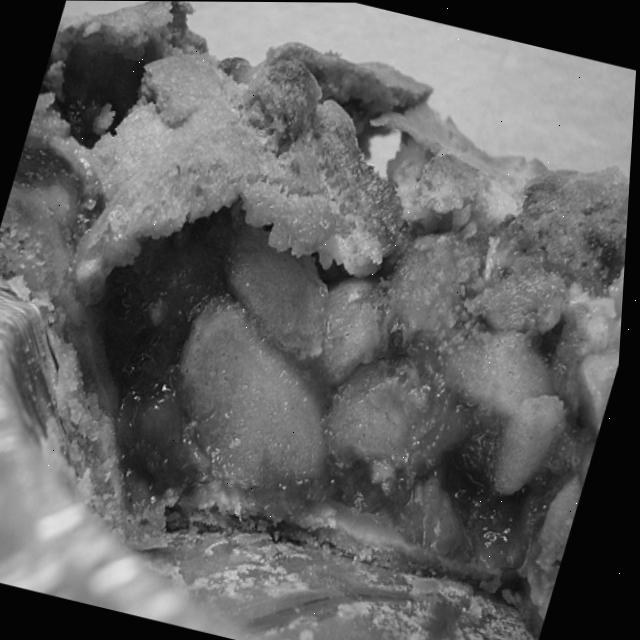炸货点心: (0, 0, 640, 622)
蛋糕甜品: (0, 0, 640, 622)
